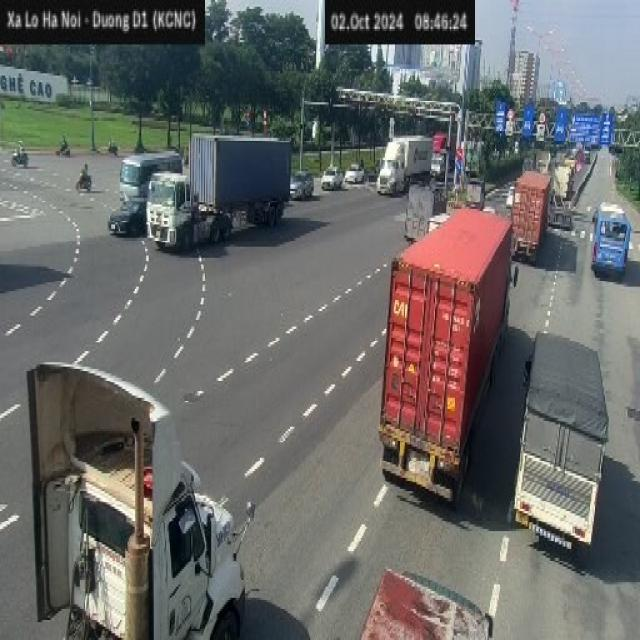bus: (586, 189, 633, 279), (123, 154, 178, 204)
car: (102, 197, 147, 239), (286, 172, 318, 206), (323, 162, 343, 190), (345, 156, 365, 182)
container-truck: (20, 367, 253, 635), (377, 216, 518, 501), (148, 129, 293, 240), (355, 561, 504, 640), (378, 122, 433, 201), (512, 174, 549, 258), (551, 161, 576, 233), (429, 130, 454, 156)
motorcycle: (11, 150, 29, 170), (75, 174, 94, 192), (56, 142, 73, 160)
person: (82, 157, 90, 180), (18, 138, 26, 160), (62, 130, 68, 148)
truck: (519, 350, 610, 560), (408, 175, 446, 242), (468, 178, 487, 212)
